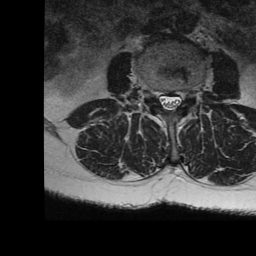CCS_severe_stenosis: (166, 85, 174, 121)
LFS_normal: (182, 82, 191, 107)
LLS_normal: (174, 85, 182, 116)
RFS_normal: (149, 79, 158, 105)
RLS_normal: (157, 84, 166, 113)
